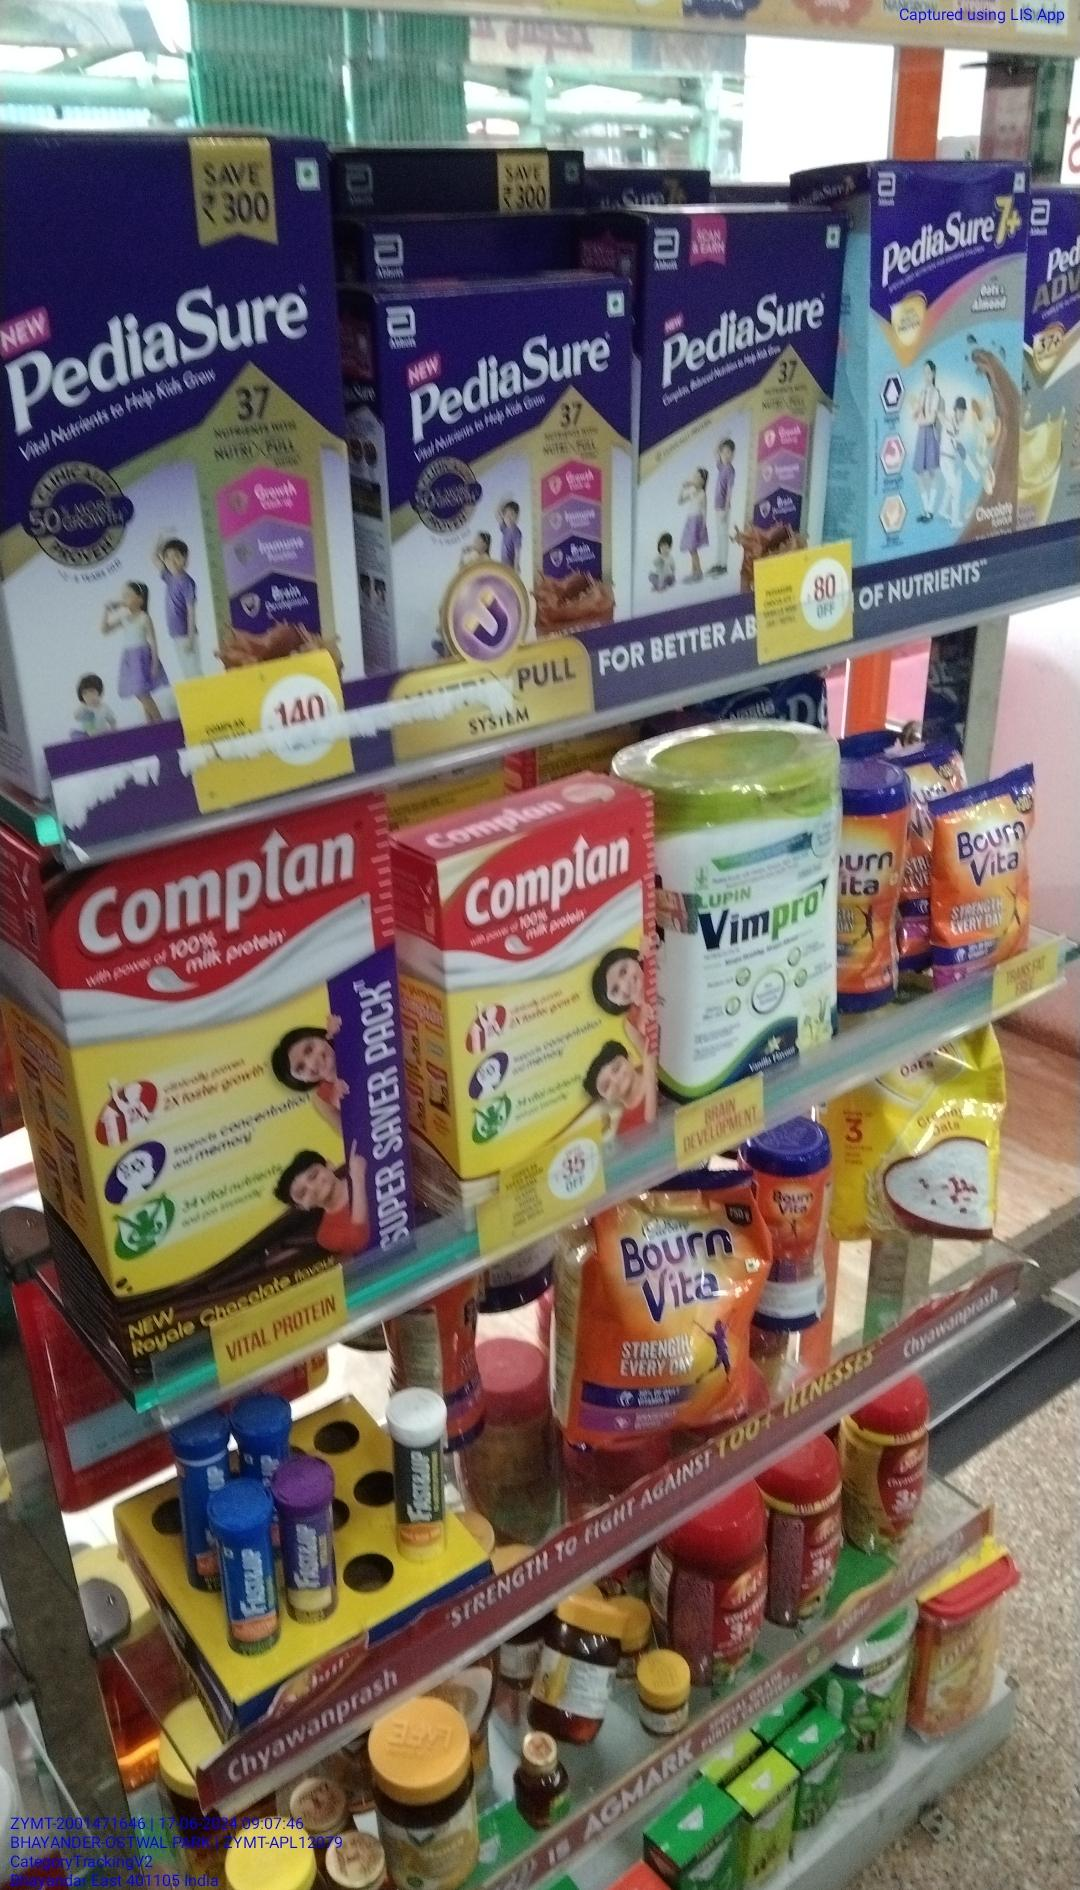BOURN_VITA_75_G_POUCH: (935, 762, 1037, 976)
PEDIASURE_CHOCOLATE_500_G_PACK: (382, 288, 631, 626), (636, 218, 807, 549)
